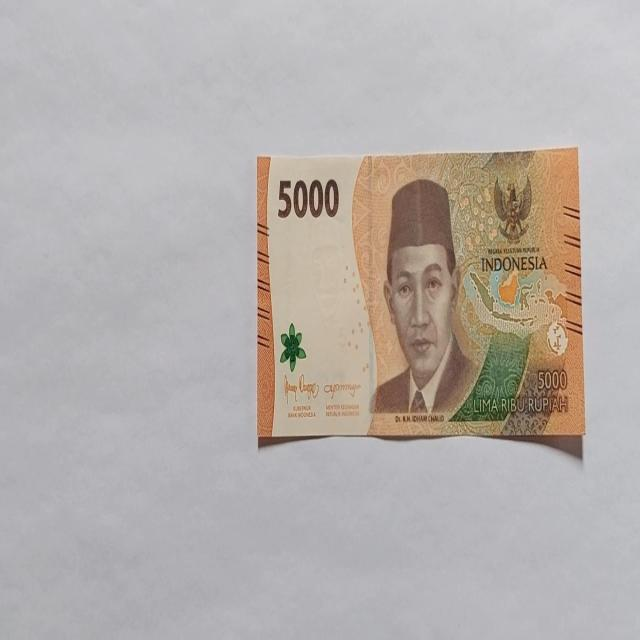lima ribu rupiah: (256, 148, 584, 448), (368, 176, 480, 420)
